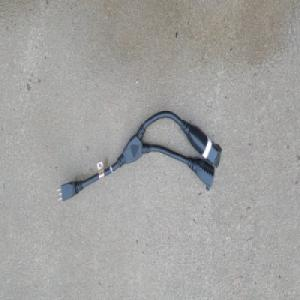Wire: (54, 109, 222, 205)
